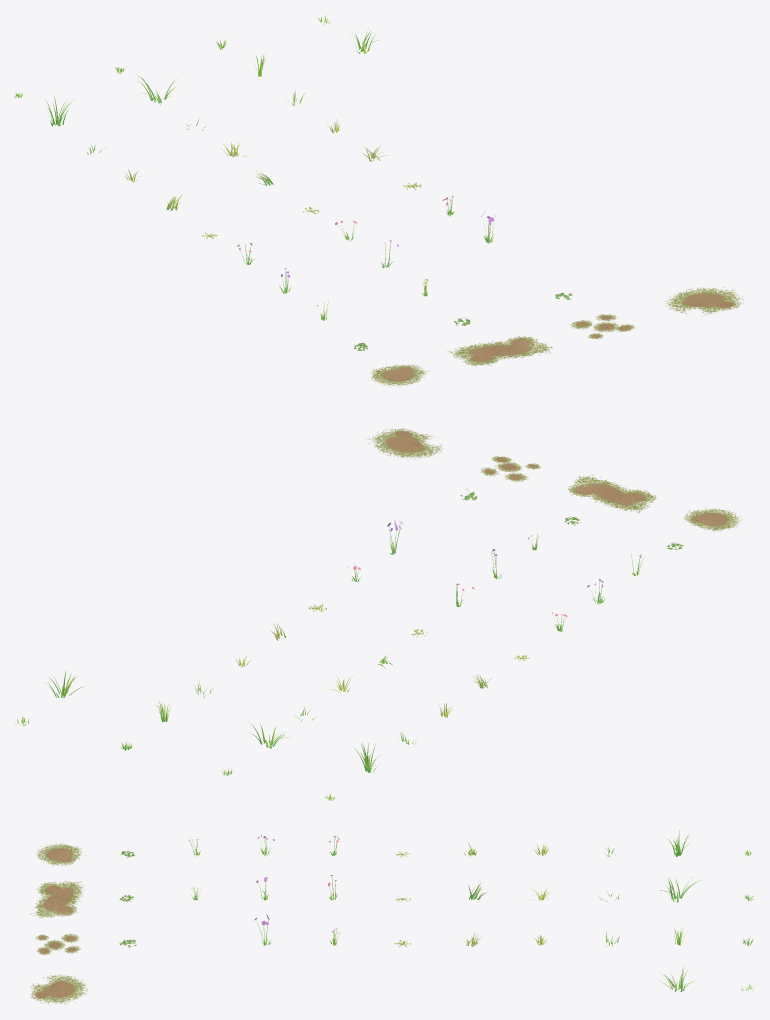
Rendered from GrassFlowerKit_All.glb.
3 views of the same model, one above another, from view 1: azimuth 30°, elevation 25°; view 2: azimuth 150°, elevation 25°; view 3: azimuth 270°, elevation 25° (orthographic). The views are drawn at different scales.
Parts seen in each view (by area): view 1: DirtPatch_B_LOD0, DirtPatch_D_LOD0, DirtPatch_A_LOD0, DirtPatch_C_LOD0; view 2: DirtPatch_B_LOD0, DirtPatch_D_LOD0, DirtPatch_A_LOD0, DirtPatch_C_LOD0; view 3: DirtPatch_B_LOD0, DirtPatch_D_LOD0, DirtPatch_A_LOD0, DirtPatch_C_LOD0.
Boxes of the visible parts, x1,y1,x2,y2 form: DirtPatch_B_LOD0: (447,336,552,366); DirtPatch_D_LOD0: (665,287,744,316); DirtPatch_A_LOD0: (370,364,429,386); DirtPatch_C_LOD0: (570,314,634,339); DirtPatch_B_LOD0: (567,474,656,513); DirtPatch_D_LOD0: (367,428,442,459); DirtPatch_A_LOD0: (683,508,742,531); DirtPatch_C_LOD0: (481,456,540,481); DirtPatch_B_LOD0: (30,881,84,918); DirtPatch_D_LOD0: (30,974,87,1004); DirtPatch_A_LOD0: (37,842,85,866); DirtPatch_C_LOD0: (35,933,80,955).
Size of what is drawn, in the model's own units: 7.35 by 0.6325 by 13.99.
Materials: 2 (2 with a texture image).
